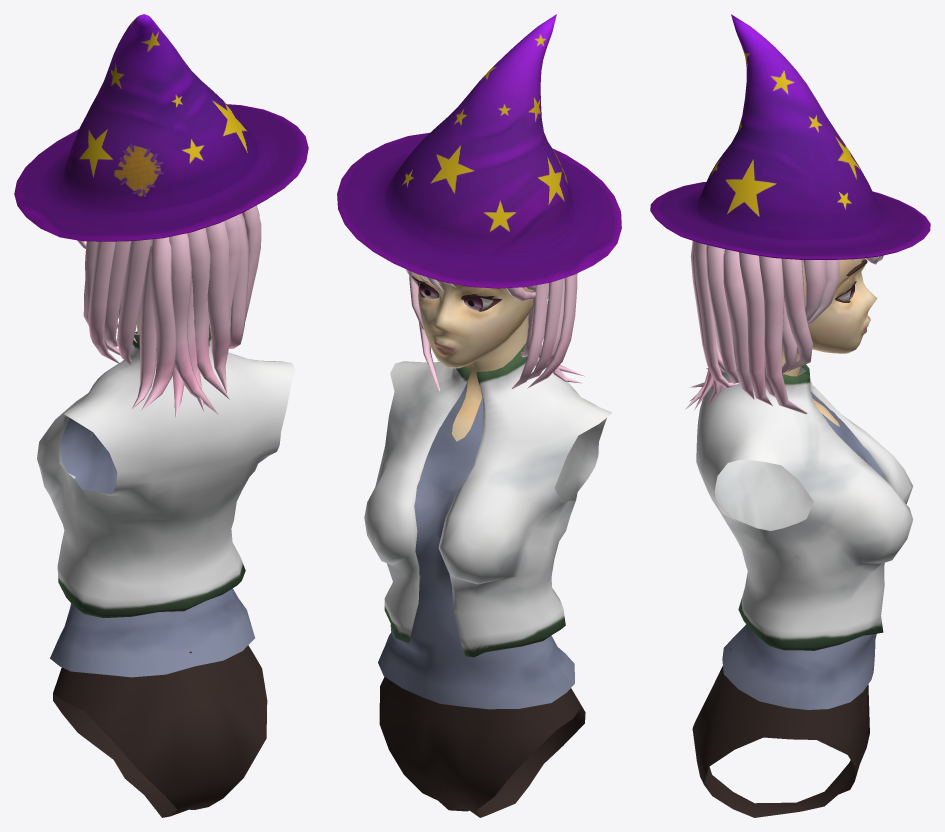
Rendered from cuerpo.obj.
3 views of the same model, side by side, from view 1: azimuth 30°, elevation 25°; view 2: azimuth 150°, elevation 25°; view 3: azimuth 270°, elevation 25° (orthographic). The views are drawn at different scales.
Visible parts, largest first — view 1: defaultMaterial; view 2: defaultMaterial; view 3: defaultMaterial.
Part boxes in pixels (left/top/right/bottom): defaultMaterial: left=14, top=14, right=308, bottom=817; defaultMaterial: left=337, top=14, right=621, bottom=817; defaultMaterial: left=650, top=14, right=930, bottom=817.
Bounding box in the file's own units: 0.7049 × 2.17 × 0.7106.
2 materials, 2 textured.
